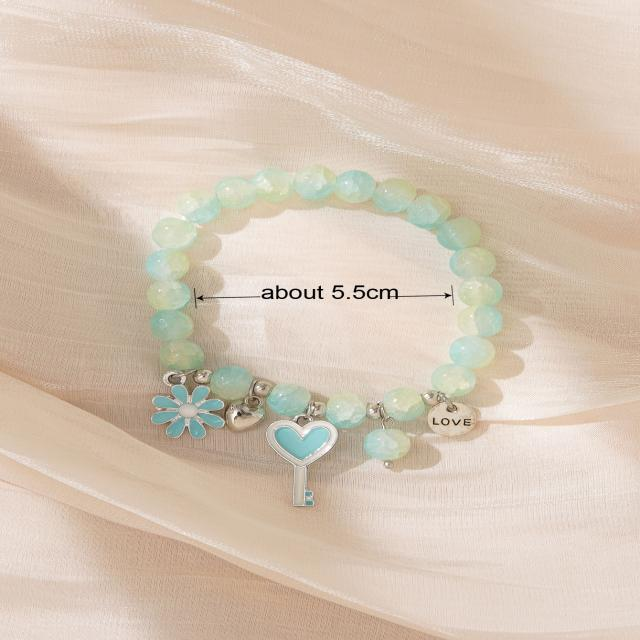bracelet: (110, 138, 640, 565)
